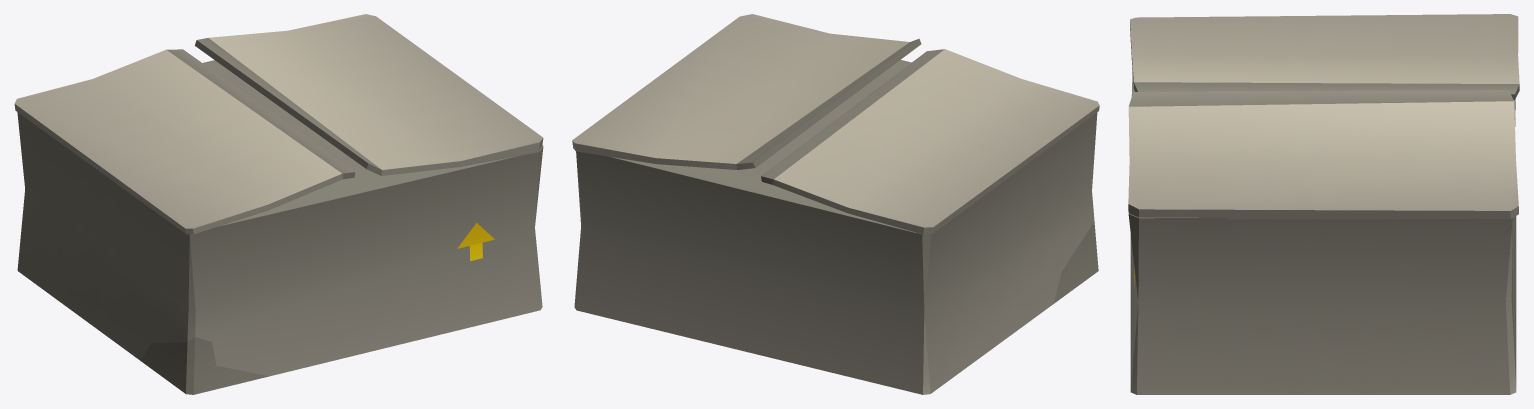
Rendered from Luggage_Pack_1A.fbx.
The picture shows the model from 3 angles, left to right: view 1: azimuth 30°, elevation 25°; view 2: azimuth 150°, elevation 25°; view 3: azimuth 270°, elevation 25°; orthographic projection. The views are drawn at different scales.
Visible parts, largest first — view 1: Luggage_Pack_1A; view 2: Luggage_Pack_1A; view 3: Luggage_Pack_1A.
Boxes of the visible parts, bbox=[...] form: Luggage_Pack_1A: bbox=[14, 14, 543, 394]; Luggage_Pack_1A: bbox=[572, 14, 1099, 394]; Luggage_Pack_1A: bbox=[1128, 14, 1519, 394].
Bounding box in the file's own units: 228 × 113 × 193.
